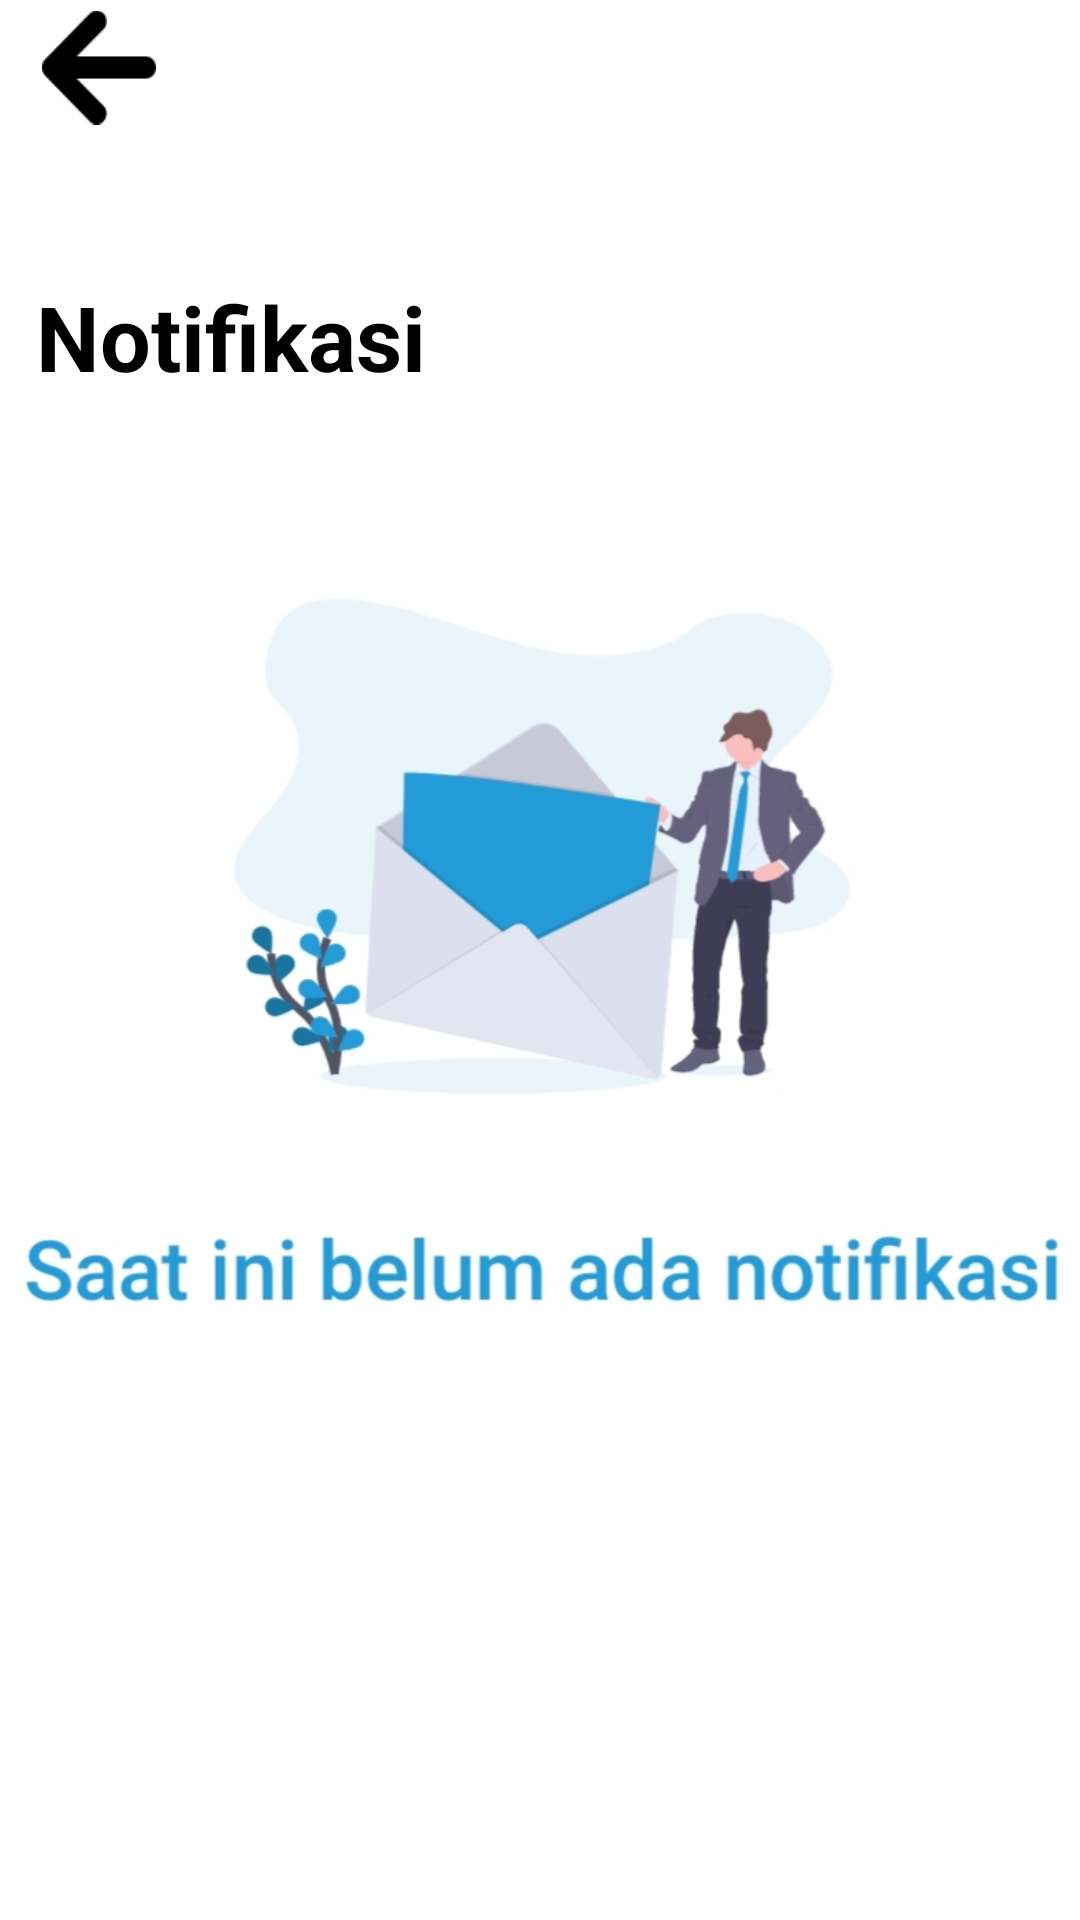

Screen size 1080*1920. Icon name, then its center in pixels as [x,y]:
back: [99,68]
